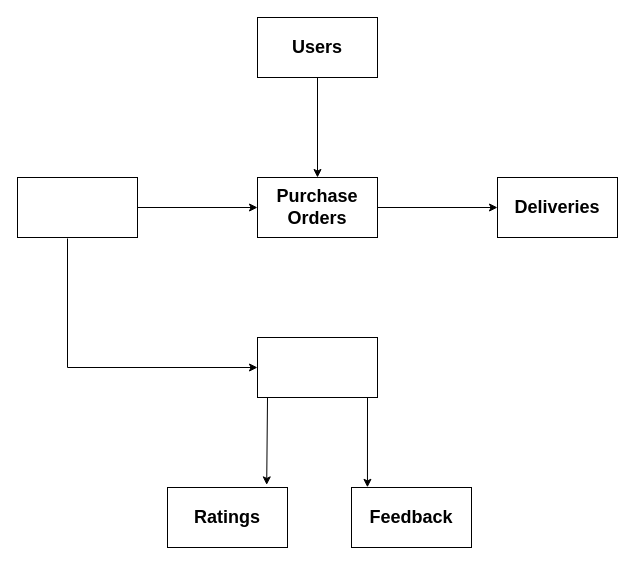
Image size: 635x565. Some labels were removed from this diagram. Here are the shapes that lost their labels. From the top down, the centre of each, then its label:
pixel 77 207: Suppliers
pixel 317 367: Evaluations
